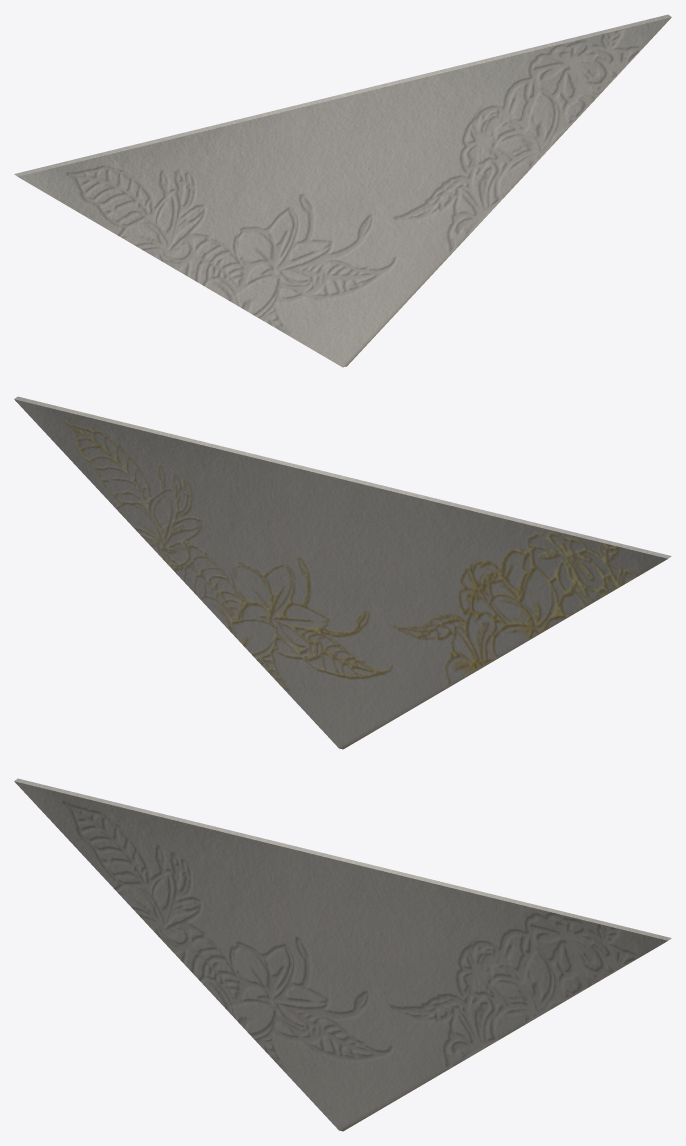
Rendered from EnvelopeFlap.glb.
3 renders of one model, top to bottom at view 1: azimuth 30°, elevation 25°; view 2: azimuth 150°, elevation 25°; view 3: azimuth 330°, elevation 25°, orthographic.
Parts seen in each view (by area): view 1: grid1; view 2: grid1; view 3: grid1.
Boxes of the visible parts, <box> form: grid1: <box>14,14,671,367</box>; grid1: <box>14,396,671,749</box>; grid1: <box>14,778,671,1131</box>.
Size of the model in its own units: 1 by 0.3948 by 0.01.
Materials: 3 (3 with a texture image).
